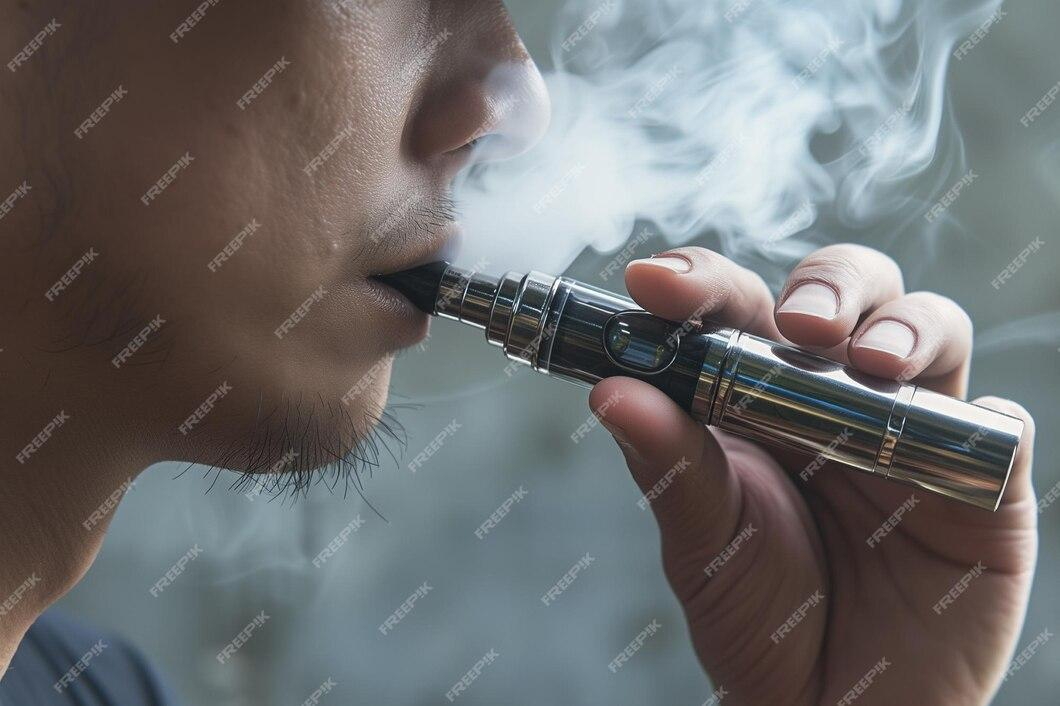Vape: (383, 263, 1017, 506)
